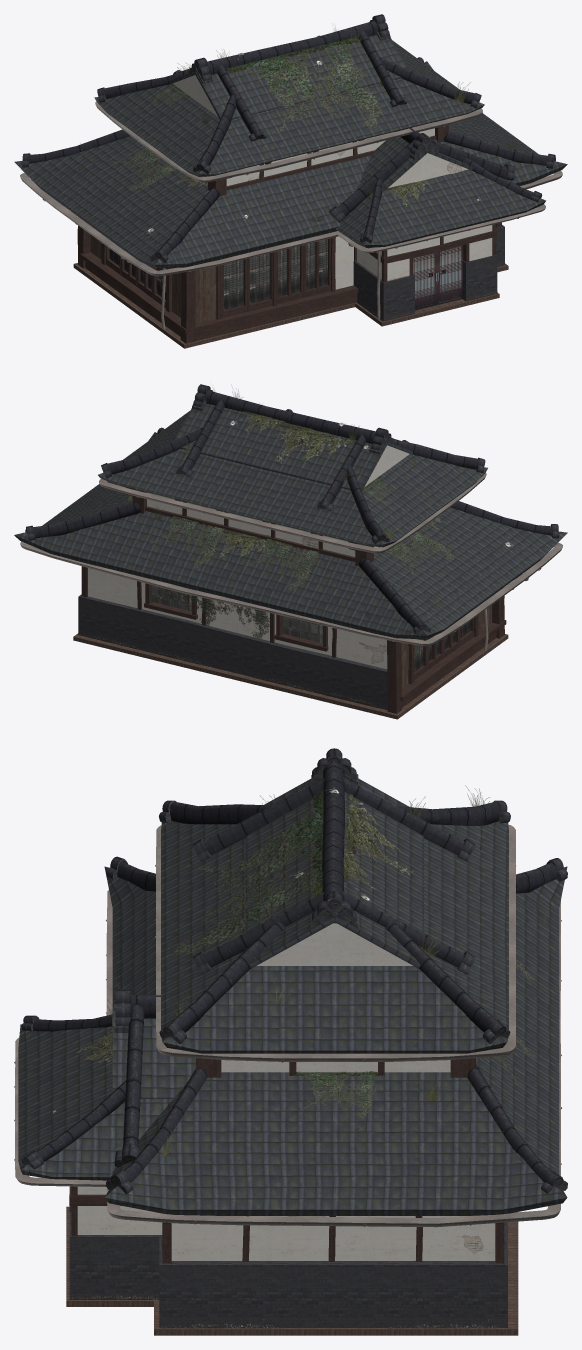
3 views of the same model, one above another, from view 1: azimuth 30°, elevation 25°; view 2: azimuth 150°, elevation 25°; view 3: azimuth 270°, elevation 25° (orthographic). The views are drawn at different scales.
Parts seen in each view (by area): view 1: MainHouse_01_geo; view 2: MainHouse_01_geo; view 3: MainHouse_01_geo.
Boxes of the visible parts, x1,y1,x2,y2 form: MainHouse_01_geo: [14, 14, 567, 348]; MainHouse_01_geo: [14, 384, 567, 719]; MainHouse_01_geo: [14, 748, 567, 1335].
Bounding box in the file's own units: 15.2 × 8.29 × 10.71.
13 materials, 13 textured.
